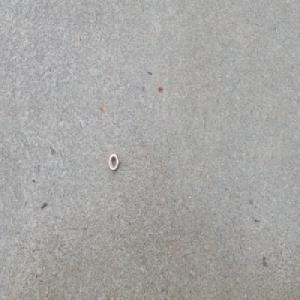Nut: (108, 153, 119, 171)
